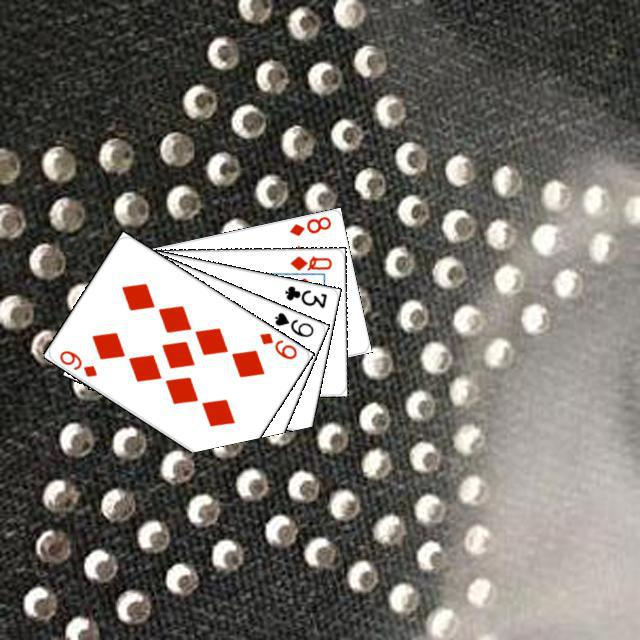3c: (279, 281, 328, 310)
8d: (285, 211, 333, 238)
9d: (254, 327, 299, 361), (54, 345, 99, 379)
9s: (269, 307, 315, 339)
Qd: (285, 251, 333, 272)
